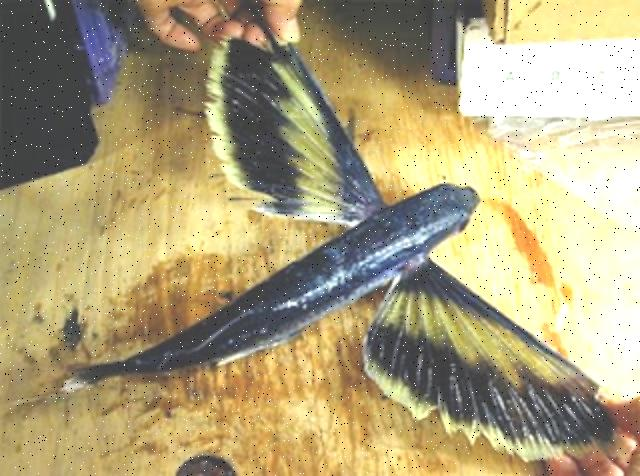Sirip Dada: (352, 244, 632, 464), (190, 0, 390, 234)
Sirip Ekor: (0, 338, 166, 444)
